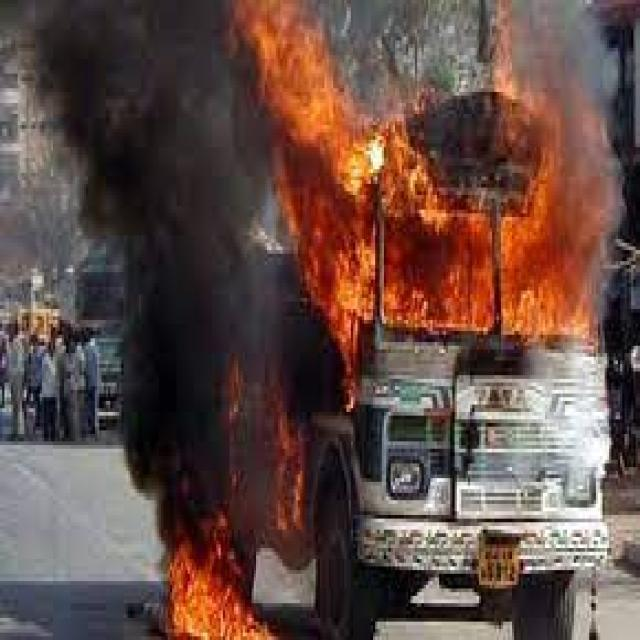Fire: (236, 0, 612, 339), (239, 338, 351, 532), (165, 536, 272, 640)
Smoke: (44, 0, 237, 206), (124, 209, 235, 531)
